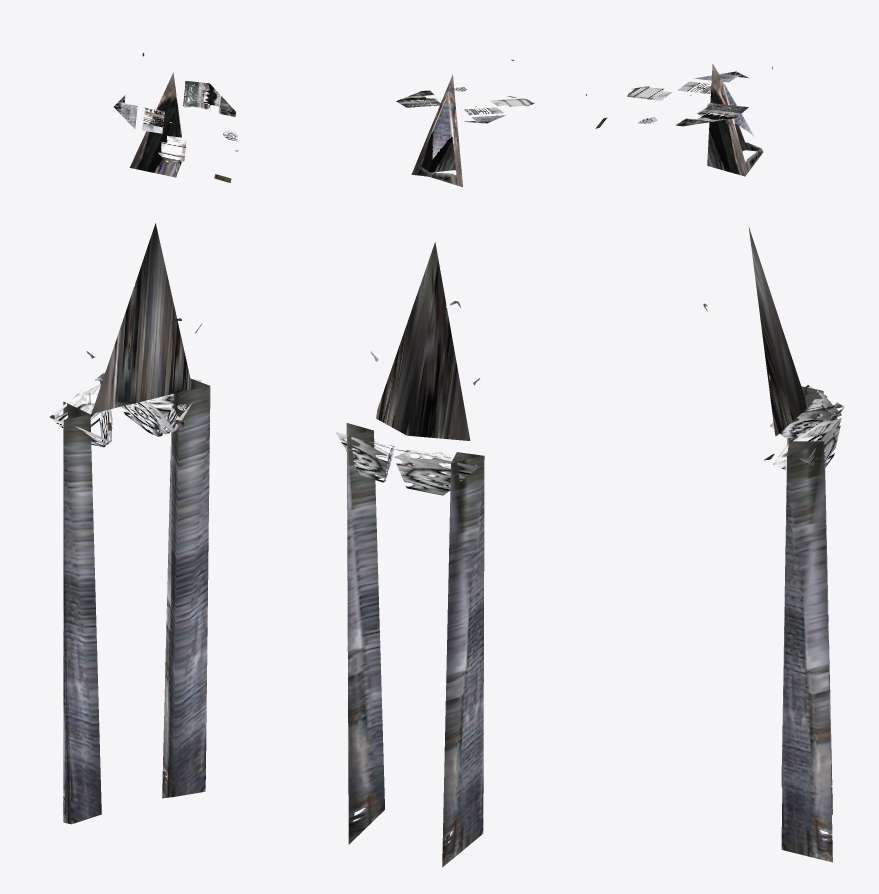
Rendered from poi_ev9d9_powerdown_l3.fbx.
3 renders of one model, left to right at view 1: azimuth 30°, elevation 25°; view 2: azimuth 150°, elevation 25°; view 3: azimuth 270°, elevation 25°, orthographic. The views are drawn at different scales.
Visible parts, largest first — view 1: mesh_node; view 2: mesh_node; view 3: mesh_node.
Part boxes in pixels (x1,y1,x2,y2): mesh_node: (49,53,238,824); mesh_node: (335,59,535,867); mesh_node: (586,64,844,862).
Bounding box in the file's own units: 0.5689 × 1.96 × 0.6209.
1 material, 1 textured.
